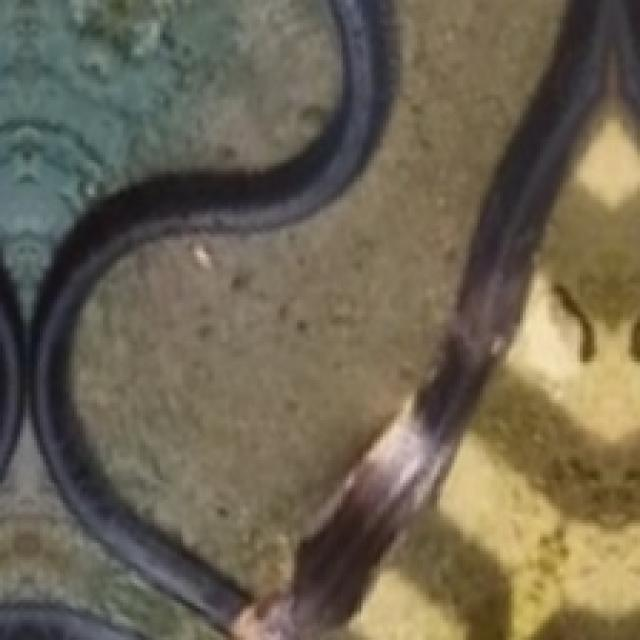king cobra: (30, 0, 640, 640)
